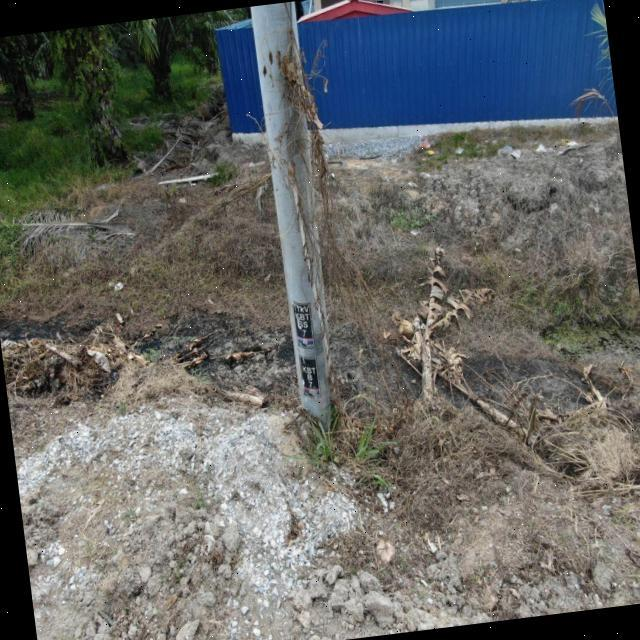critical vegetation: (248, 20, 406, 427)
